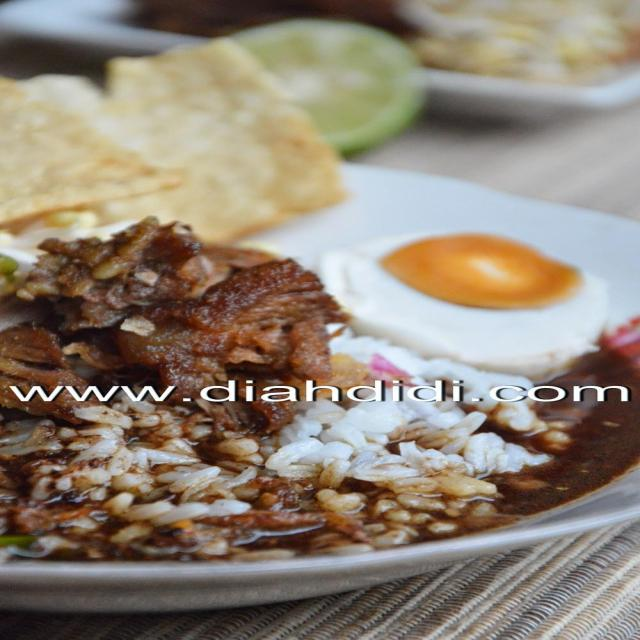Rawon: (0, 204, 624, 559)
